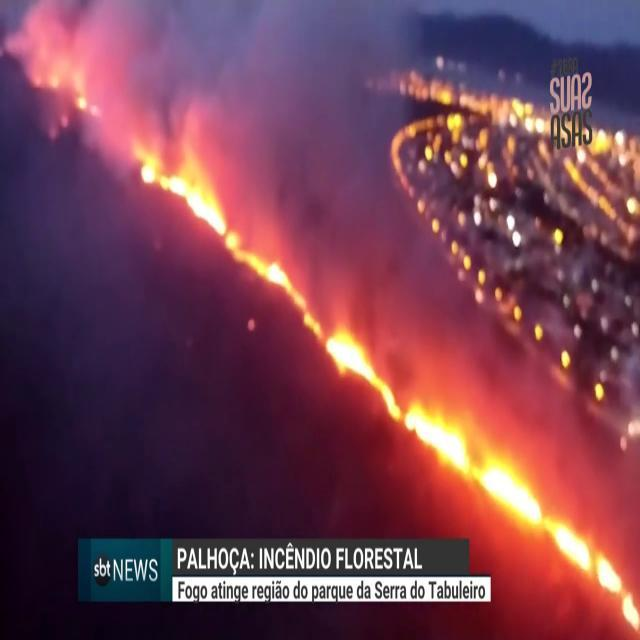Fire: (139, 151, 637, 626)
